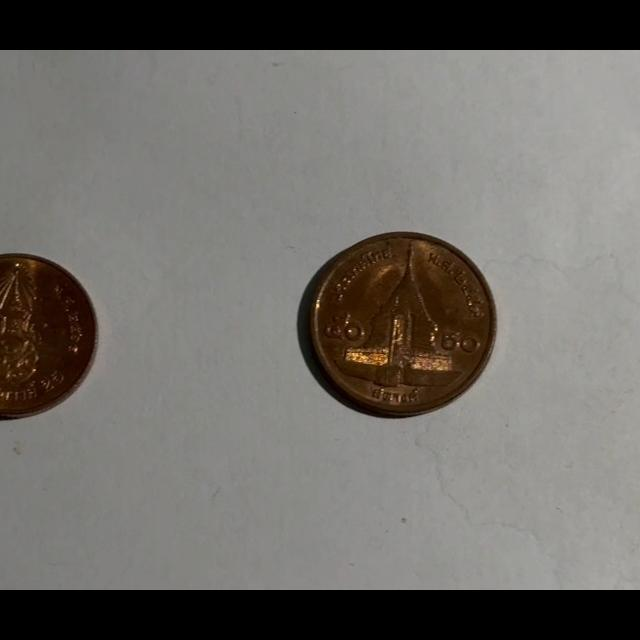25-satang: (0, 254, 97, 418)
50-satang: (303, 234, 493, 415)
